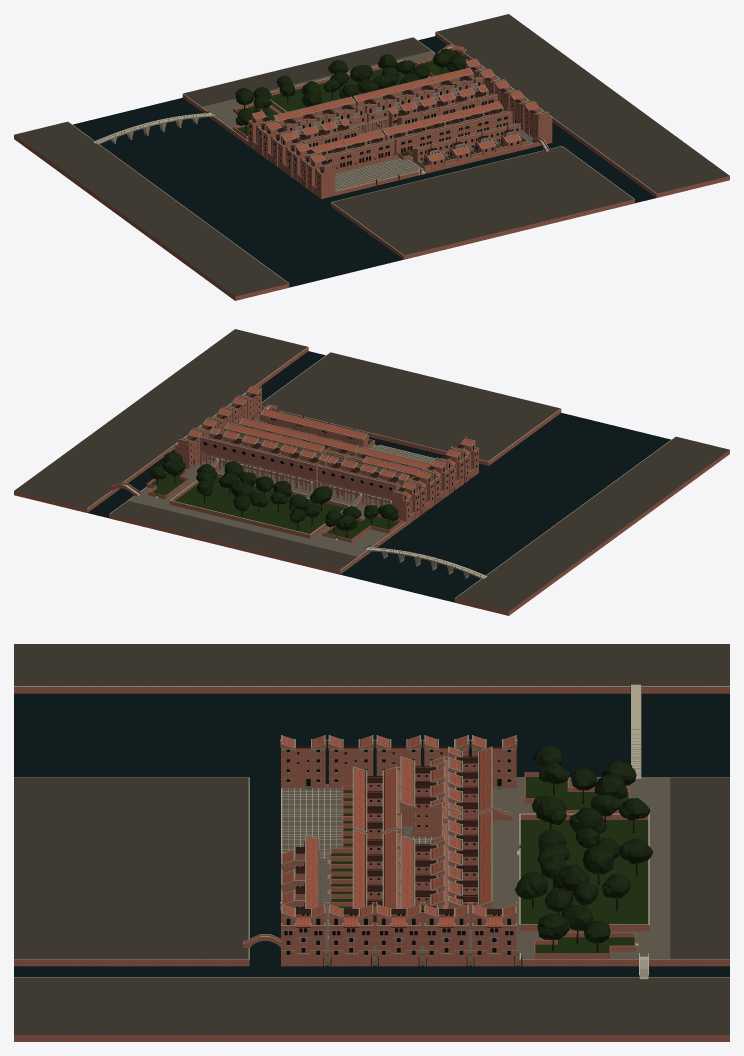
Rendered from SM_Giudecca_IACP_Valle.obj.
The picture shows the model from 3 angles, top to bottom: view 1: azimuth 30°, elevation 25°; view 2: azimuth 150°, elevation 25°; view 3: azimuth 270°, elevation 25°; orthographic projection. The views are drawn at different scales.
Parts seen in each view (by area): view 1: SM_Site_Banks, SM_Site_Water, SM_Site_TreeCrowns, SM_Site_Plate, SM_Site_GardenLawn_North, SM_Tower_Body_W4, SM_Site_BridgeLavraneri, SM_Tower_Body_E4, SM_Schiera_Body_W, SM_Schiera_Trim, SM_Schiera_Body_E, SM_Carpet_Copings_E1 (+12 smaller); view 2: SM_Site_Banks, SM_Site_Water, SM_Site_TreeCrowns, SM_Site_Plate, SM_Site_GardenLawn_North, SM_Site_GardenLawn_Side, SM_Site_GardenWalls_North, SM_Carpet_NorthPavN_E3, SM_Site_BridgeLavraneri, SM_Carpet_NorthPavN_W1, SM_Carpet_NorthPavN_E2, SM_Site_GardenWalls_Side (+10 smaller); view 3: SM_Site_Banks, SM_Site_Water, SM_Site_Plate, SM_Site_TreeCrowns, SM_Site_GardenLawn_North, SM_Site_GardenLawn_Side, SM_Tower_Body_E0, SM_Tower_Body_E2, SM_Tower_Body_E4, SM_Tower_Body_W4, SM_Tower_Body_E3, SM_Tower_Body_E1 (+22 smaller).
Boxes of the visible parts, x1,y1,x2,y2 form: SM_Site_Banks: (14, 14, 729, 300); SM_Site_Water: (73, 36, 655, 287); SM_Site_TreeCrowns: (235, 48, 467, 125); SM_Site_Plate: (201, 51, 538, 195); SM_Site_GardenLawn_North: (269, 68, 412, 111); SM_Tower_Body_W4: (307, 157, 335, 199); SM_Site_BridgeLavraneri: (93, 113, 215, 144); SM_Tower_Body_E4: (524, 102, 552, 145); SM_Schiera_Body_W: (413, 137, 470, 168); SM_Schiera_Trim: (413, 123, 521, 164); SM_Schiera_Body_E: (469, 124, 521, 155); SM_Carpet_Copings_E1: (431, 67, 512, 120); SM_Site_Banks: (14, 329, 729, 615); SM_Site_Water: (88, 351, 670, 602); SM_Site_TreeCrowns: (149, 452, 398, 530); SM_Site_Plate: (128, 418, 435, 560); SM_Site_GardenLawn_North: (174, 476, 345, 534); SM_Site_GardenLawn_Side: (150, 472, 398, 539); SM_Site_GardenWalls_North: (169, 473, 349, 538); SM_Carpet_NorthPavN_E3: (277, 456, 320, 491); SM_Site_BridgeLavraneri: (365, 547, 487, 578); SM_Carpet_NorthPavN_W1: (318, 466, 361, 501); SM_Carpet_NorthPavN_E2: (239, 446, 281, 482); SM_Site_GardenWalls_Side: (146, 470, 402, 542); SM_Site_Banks: (14, 644, 729, 1041); SM_Site_Water: (14, 693, 729, 976); SM_Site_Plate: (281, 777, 670, 966); SM_Site_TreeCrowns: (515, 745, 653, 943); SM_Site_GardenLawn_North: (520, 820, 648, 924); SM_Site_GardenLawn_Side: (525, 777, 634, 953); SM_Tower_Body_E0: (472, 913, 516, 966); SM_Tower_Body_E2: (376, 913, 420, 966); SM_Tower_Body_E4: (281, 913, 325, 966); SM_Tower_Body_W4: (281, 744, 325, 788); SM_Tower_Body_E3: (329, 913, 373, 966); SM_Tower_Body_E1: (424, 913, 468, 966).
Bounding box in the file's own units: 256 × 16.58 × 198.
Materials: 15 (2 with a texture image).
